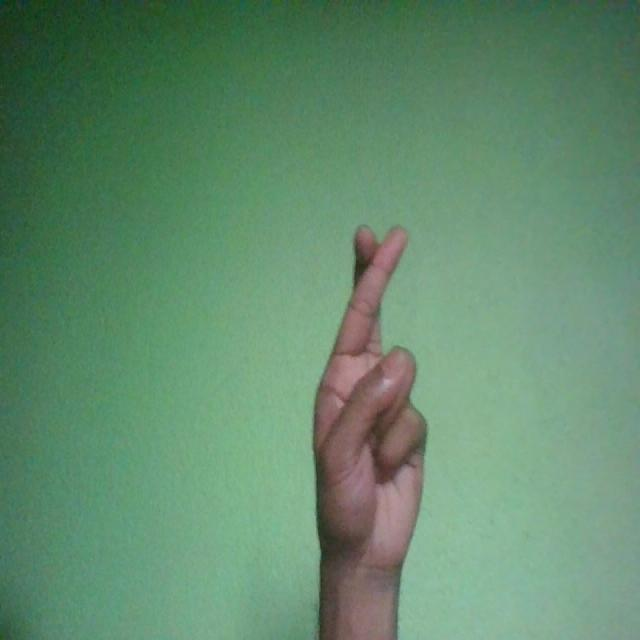Ok: (313, 224, 428, 588)
